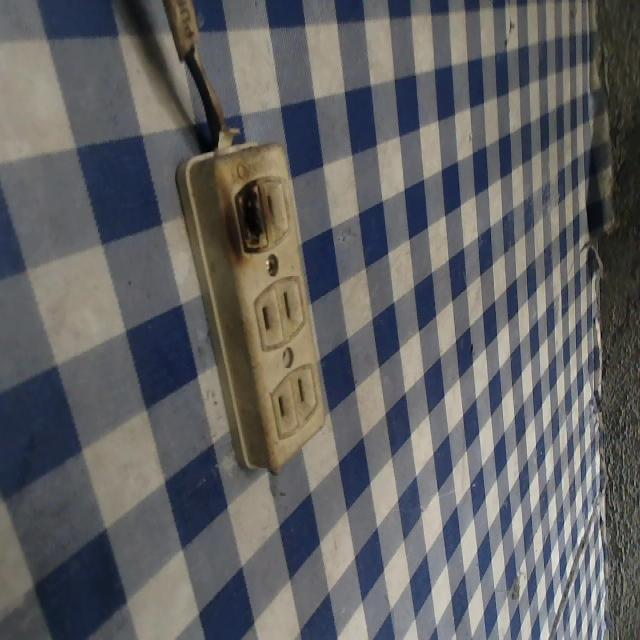-: (223, 173, 274, 264)
